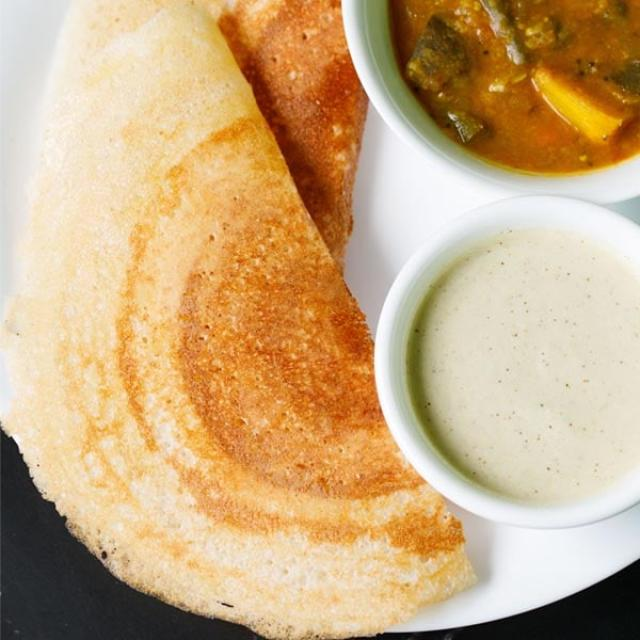DOSA: (1, 0, 477, 635), (218, 5, 369, 264)
